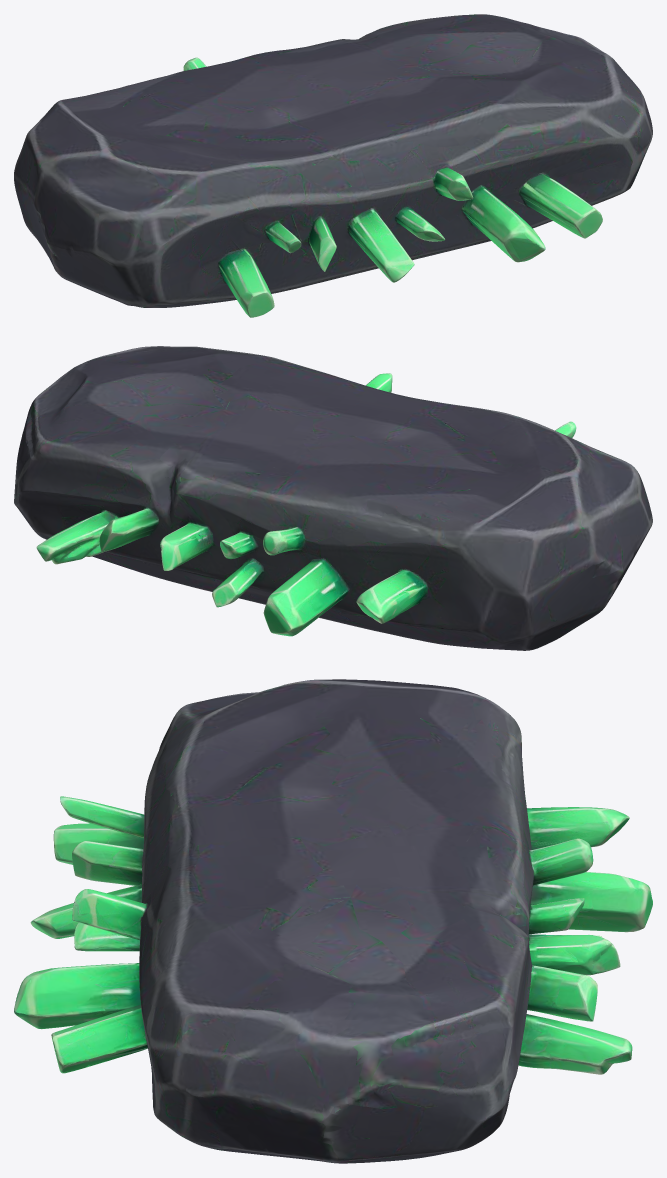
File: et_vein2.glb
3 renders of one model, top to bottom at view 1: azimuth 30°, elevation 25°; view 2: azimuth 150°, elevation 25°; view 3: azimuth 270°, elevation 25°, orthographic. The views are drawn at different scales.
Size of the model in its own units: 1.9 by 0.4672 by 1.39.
Materials: 1 (1 with a texture image).
